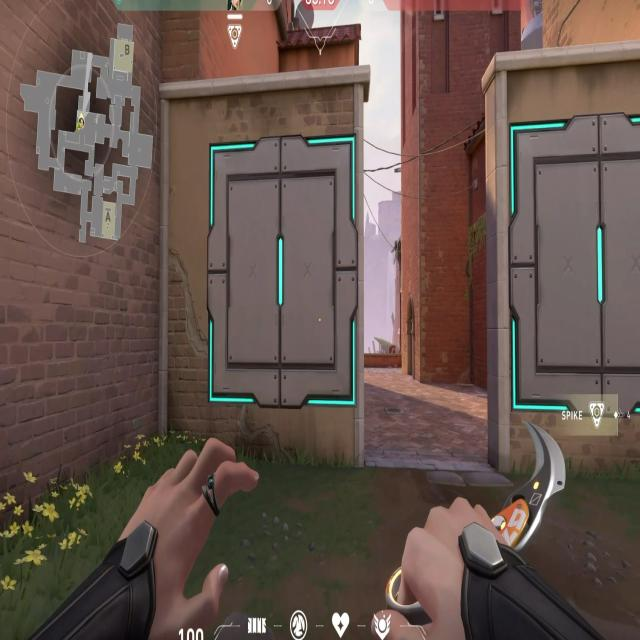Mid_Wall: (478, 55, 640, 468), (193, 71, 369, 446)
